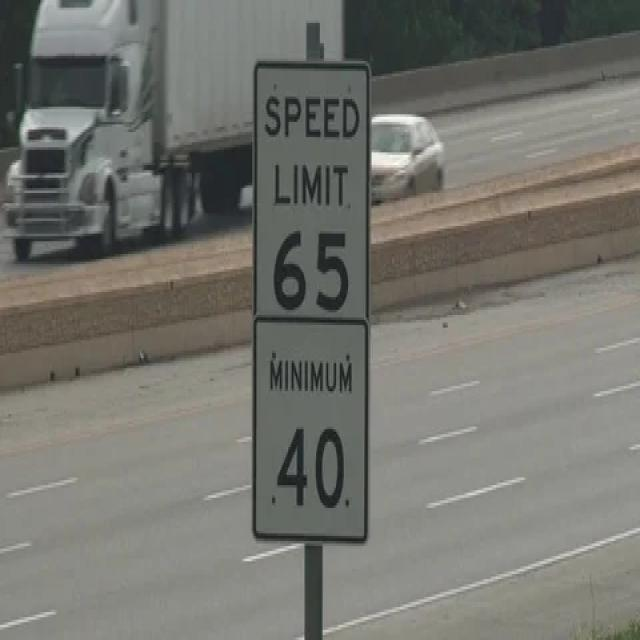Speed Limit Signs: (249, 53, 372, 334)
